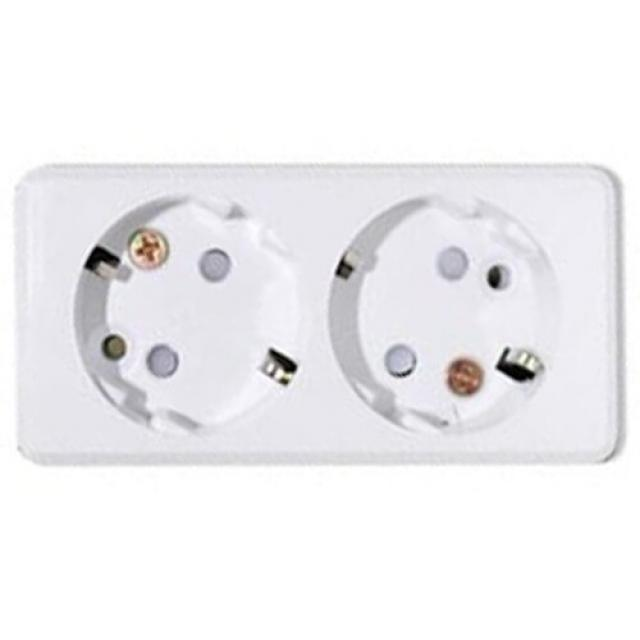typeb: (0, 137, 622, 523)
